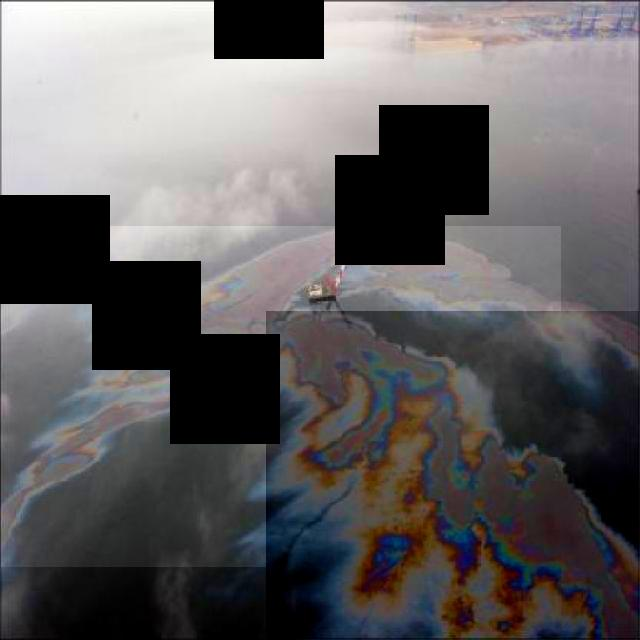oil spill: (1, 226, 561, 567), (266, 311, 640, 639)
